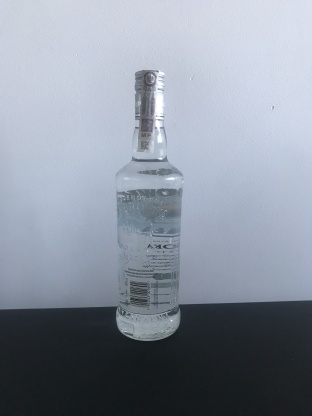nakretka: (132, 65, 167, 124)
